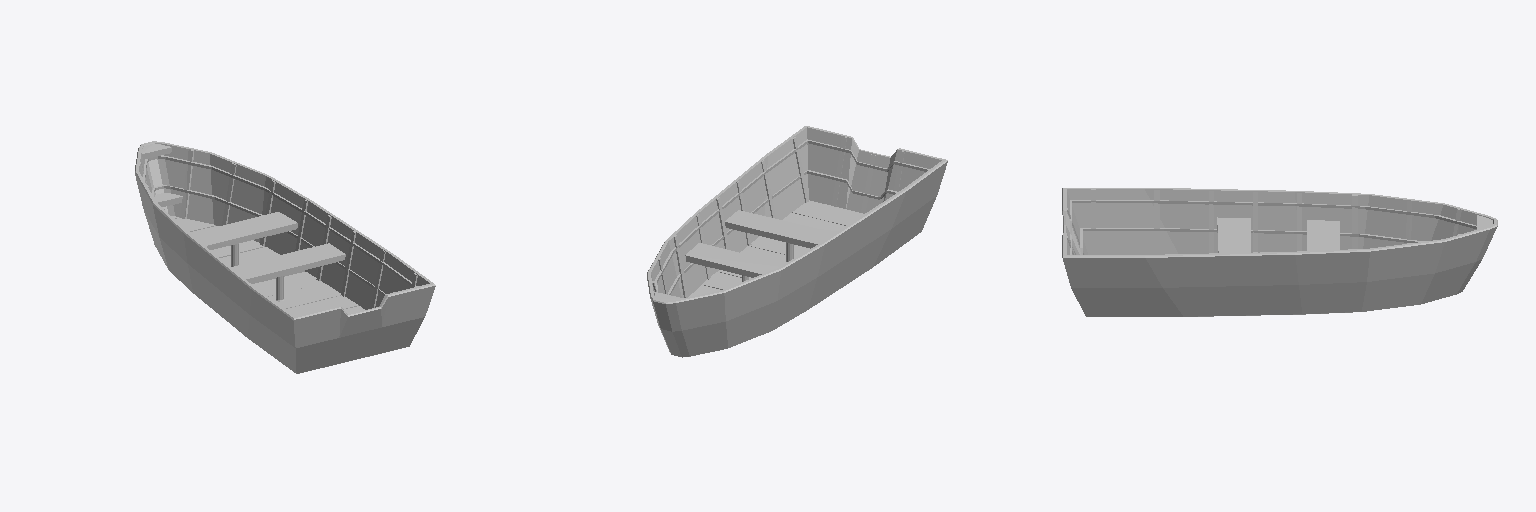
File: boat.obj
The picture shows the model from 3 angles: view 1: azimuth 30°, elevation 25°; view 2: azimuth 150°, elevation 25°; view 3: azimuth 270°, elevation 25°; orthographic projection.
Parts seen in each view (by area): view 1: SM_Wooden_Boat_1_JFG; view 2: SM_Wooden_Boat_1_JFG; view 3: SM_Wooden_Boat_1_JFG.
Boxes of the visible parts, x1,y1,x2,y2 form: SM_Wooden_Boat_1_JFG: [135, 141, 435, 373]; SM_Wooden_Boat_1_JFG: [647, 126, 947, 357]; SM_Wooden_Boat_1_JFG: [1062, 188, 1497, 316].
Size of the model in its own units: 14.43 by 6.58 by 38.09.